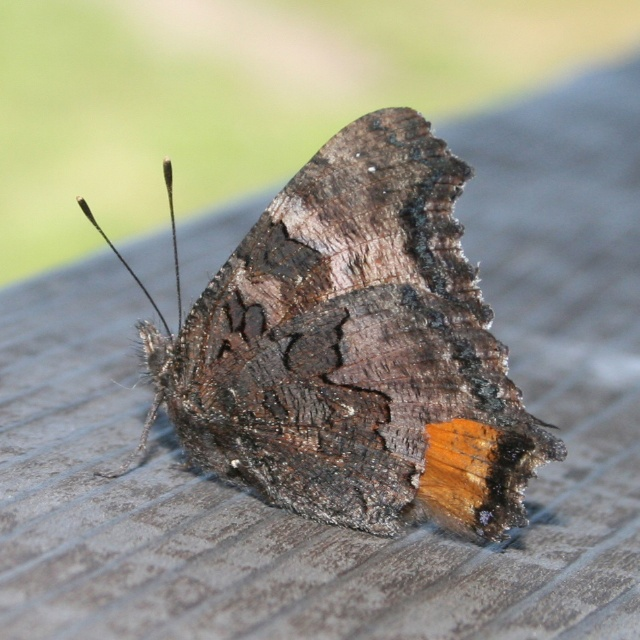Butterfly: (105, 100, 557, 571)
